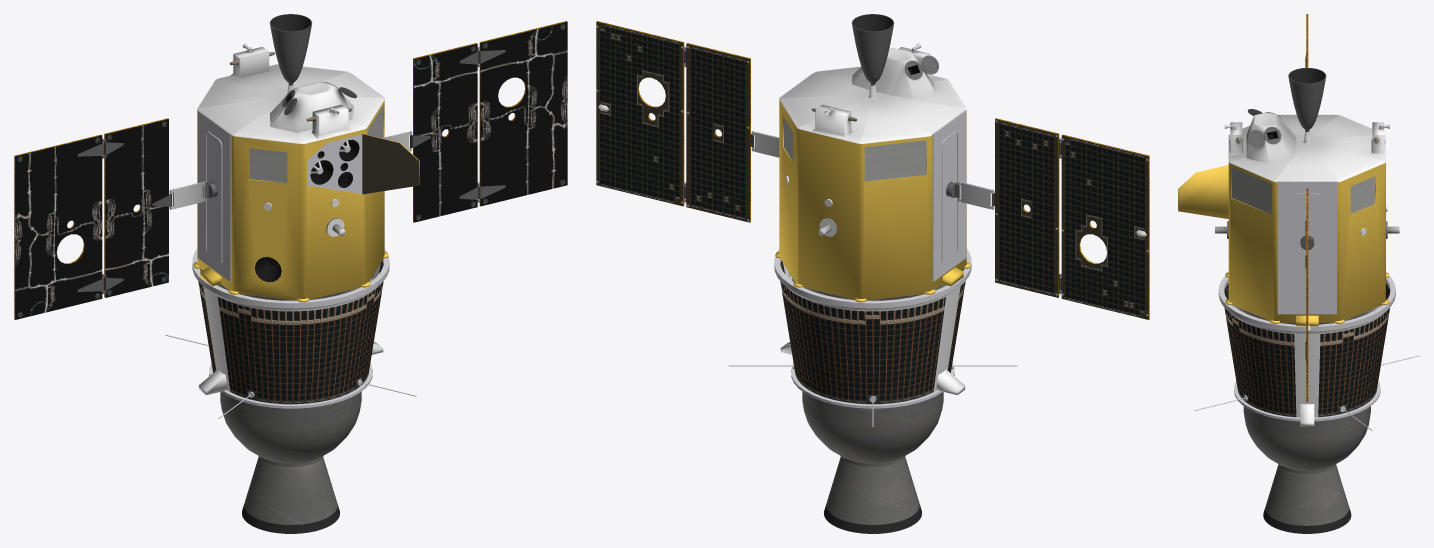
The model's file is clementine_isas.glb.
The picture shows the model from 3 angles, left to right: view 1: azimuth 30°, elevation 25°; view 2: azimuth 150°, elevation 25°; view 3: azimuth 270°, elevation 25°; orthographic projection. The views are drawn at different scales.
Parts seen in each view (by area): view 1: tex_01, foil_gold, shiny_panel, foil_white, AO_hinges, foil_silver; view 2: shiny_panel, tex_01, foil_gold, foil_white, foil_silver, AO_hinges; view 3: tex_01, foil_gold, shiny_panel, foil_white, foil_silver, AO_dish.
Boxes of the visible parts, left/top/right/bottom form: tex_01: left=14, top=14, right=567, bottom=533; foil_gold: left=193, top=100, right=419, bottom=302; shiny_panel: left=198, top=281, right=383, bottom=404; foil_white: left=197, top=47, right=384, bottom=143; AO_hinges: left=77, top=46, right=505, bottom=294; foil_silver: left=198, top=263, right=383, bottom=395; shiny_panel: left=596, top=22, right=1148, bottom=404; tex_01: left=596, top=14, right=1149, bottom=533; foil_gold: left=775, top=100, right=970, bottom=302; foil_white: left=779, top=47, right=966, bottom=143; foil_silver: left=598, top=104, right=1146, bottom=395; AO_hinges: left=684, top=46, right=1061, bottom=294; tex_01: left=1194, top=14, right=1419, bottom=533; foil_gold: left=1178, top=162, right=1389, bottom=326; shiny_panel: left=1224, top=307, right=1390, bottom=417; foil_white: left=1228, top=112, right=1385, bottom=182; foil_silver: left=1230, top=312, right=1384, bottom=426; AO_dish: left=1215, top=221, right=1399, bottom=324.
Size of the model in its own units: 4.13 by 3.5 by 1.75.
Materials: 7 (5 with a texture image).
